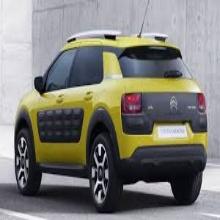no damage: (13, 30, 207, 212)
